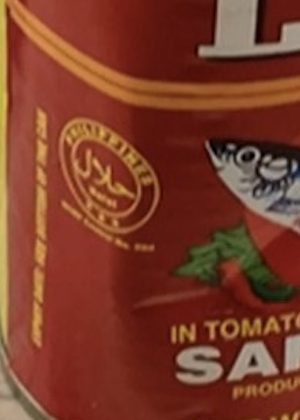halal: (77, 150, 133, 200)
